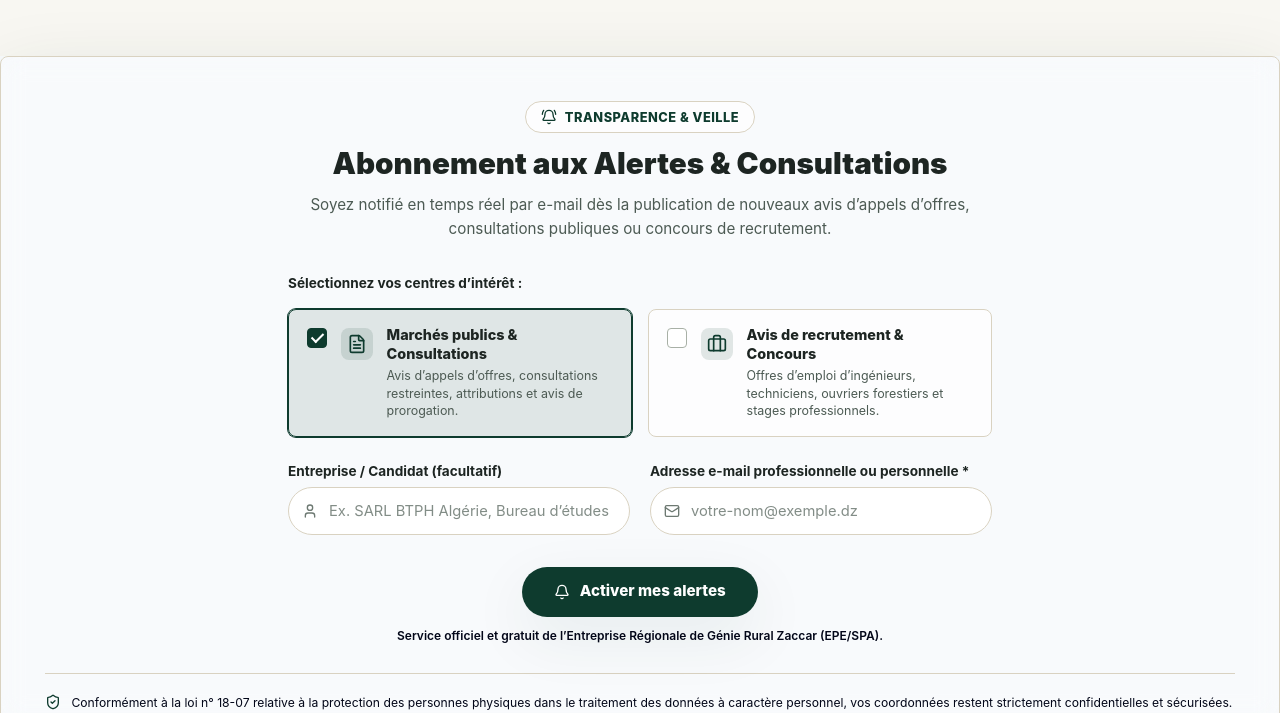
it: AlertSubscriptionCard › shows validation error when email is invalid or empty
Click the button "Activer mes alertes" at (640, 592), box [522,567,758,617]
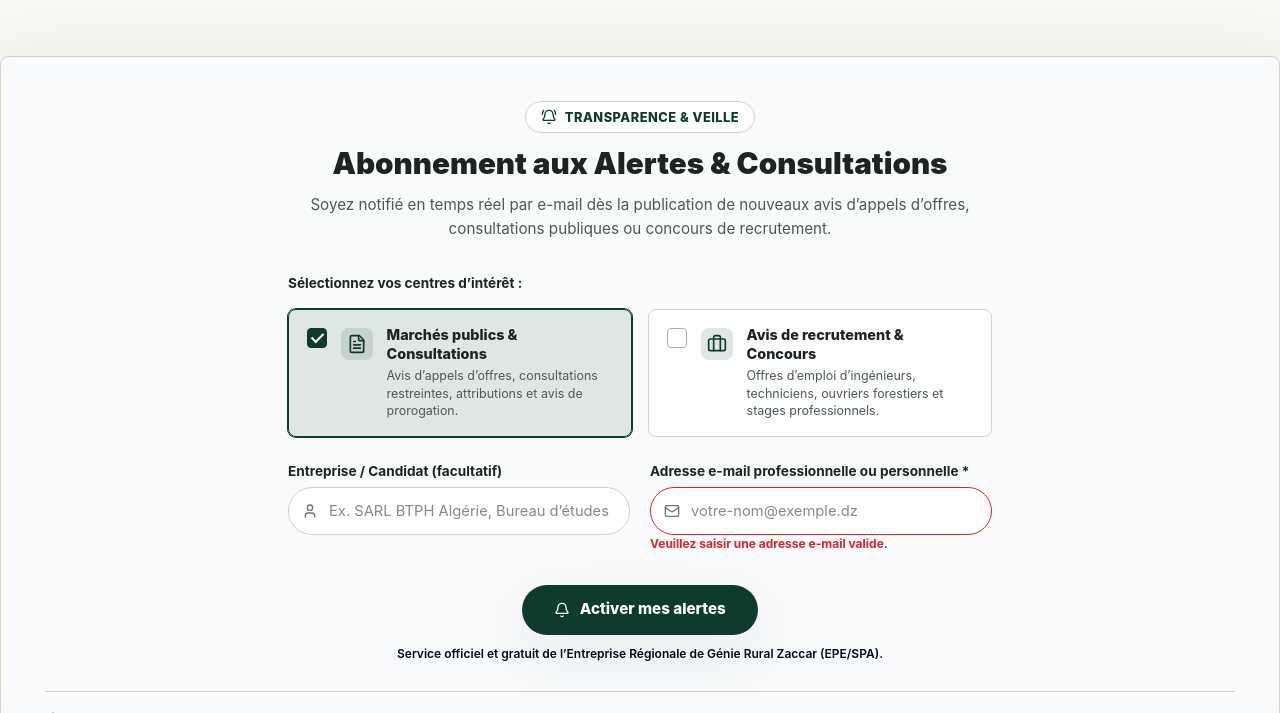
Now the text "Veuillez saisir une adresse e-mail valide." is shown, box [650,536,888,551]
Type "not-an-email" into the field with placeholder "votre-nom@exemple.dz" at (821, 511), box [650,487,992,535]
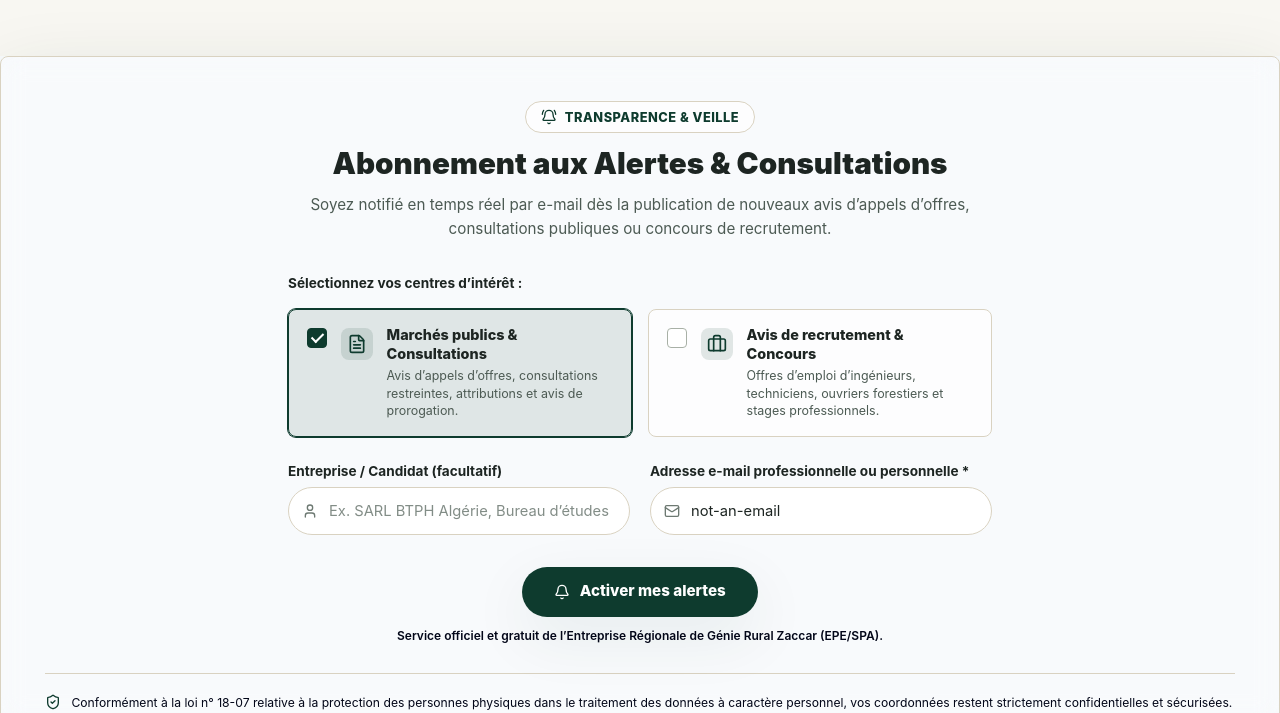
Click the button "Activer mes alertes" at (640, 592), box [522,567,758,617]
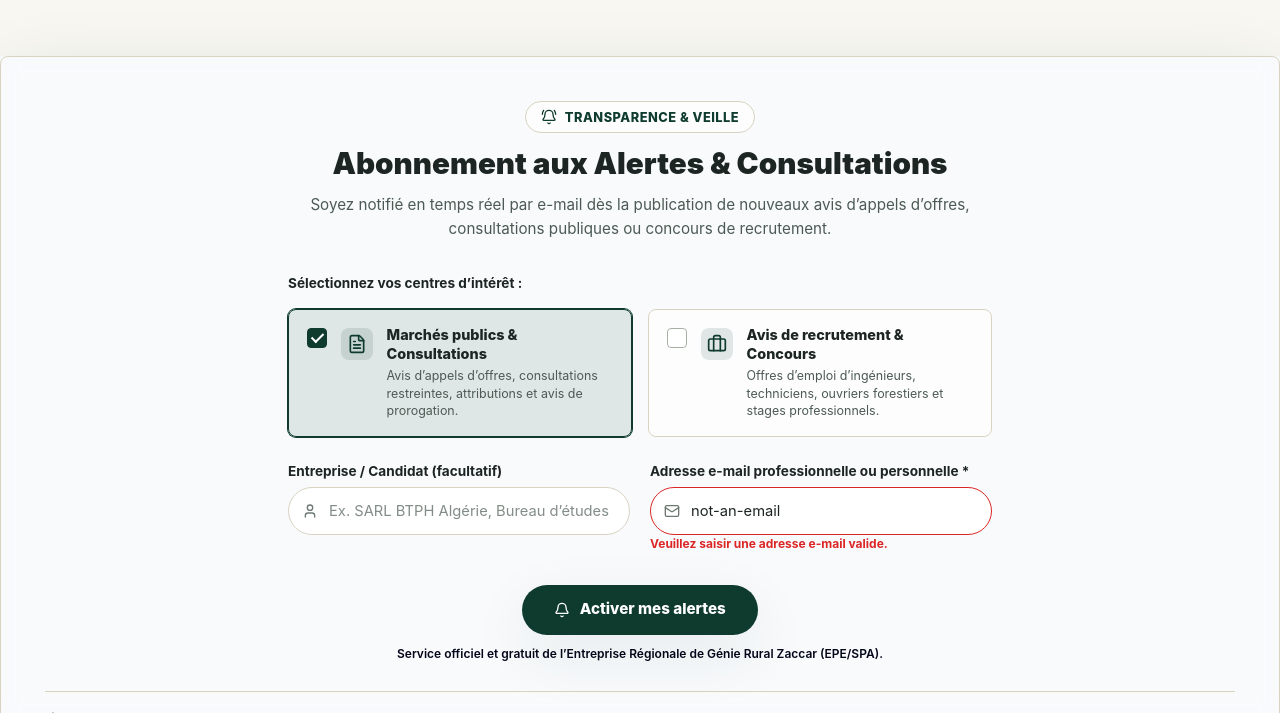
Now the text "Veuillez saisir une adresse e-mail valide." is shown, box [650,536,888,551]
